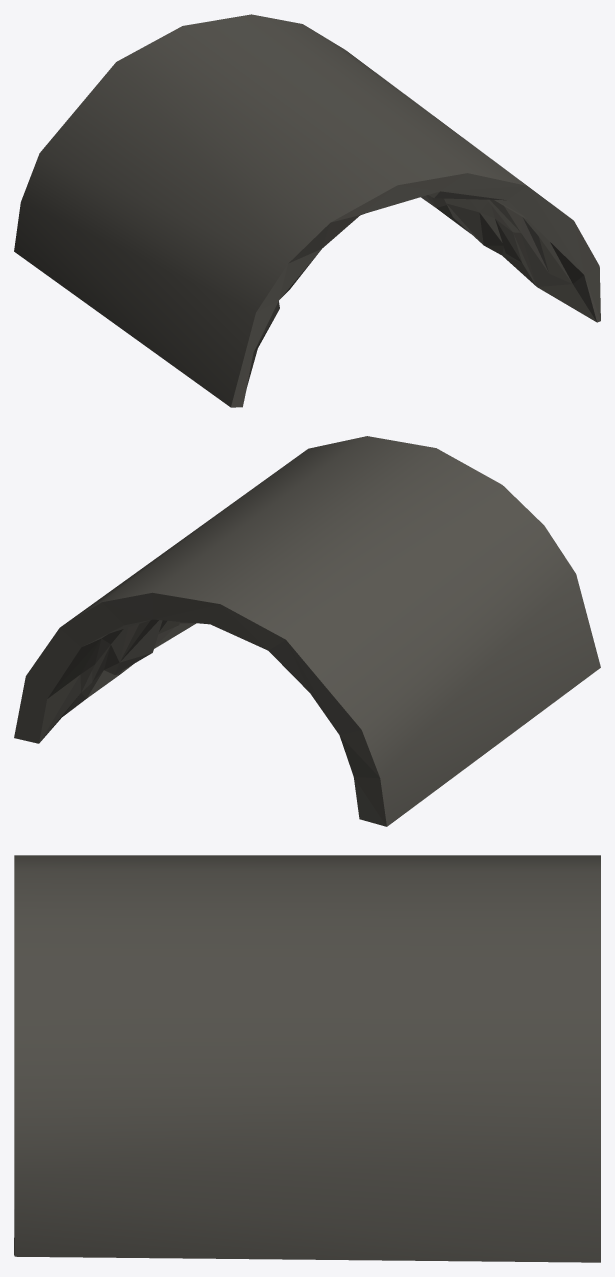
The model's file is MDungeon_CeilingArch_01.FBX.
The picture shows the model from 3 angles, top to bottom: view 1: azimuth 30°, elevation 25°; view 2: azimuth 150°, elevation 25°; view 3: azimuth 270°, elevation 25°; orthographic projection. The views are drawn at different scales.
Parts seen in each view (by area): view 1: MDungeon_CeilingArch_01_LOD0; view 2: MDungeon_CeilingArch_01_LOD0; view 3: MDungeon_CeilingArch_01_LOD0.
Boxes of the visible parts, <box> form: MDungeon_CeilingArch_01_LOD0: <box>14,14,600,407</box>; MDungeon_CeilingArch_01_LOD0: <box>14,436,600,826</box>; MDungeon_CeilingArch_01_LOD0: <box>14,855,600,1262</box>.
Size of what is drawn, in the model's own units: 6.05 by 2.85 by 6.02.
